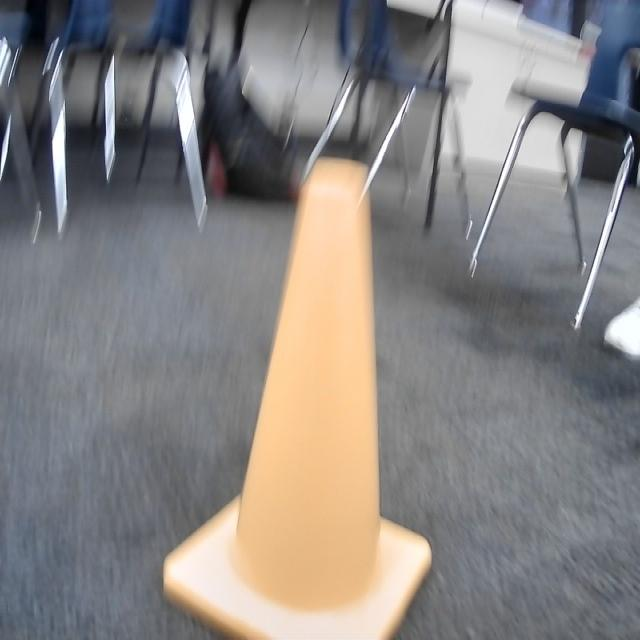cone: (159, 155, 433, 640)
